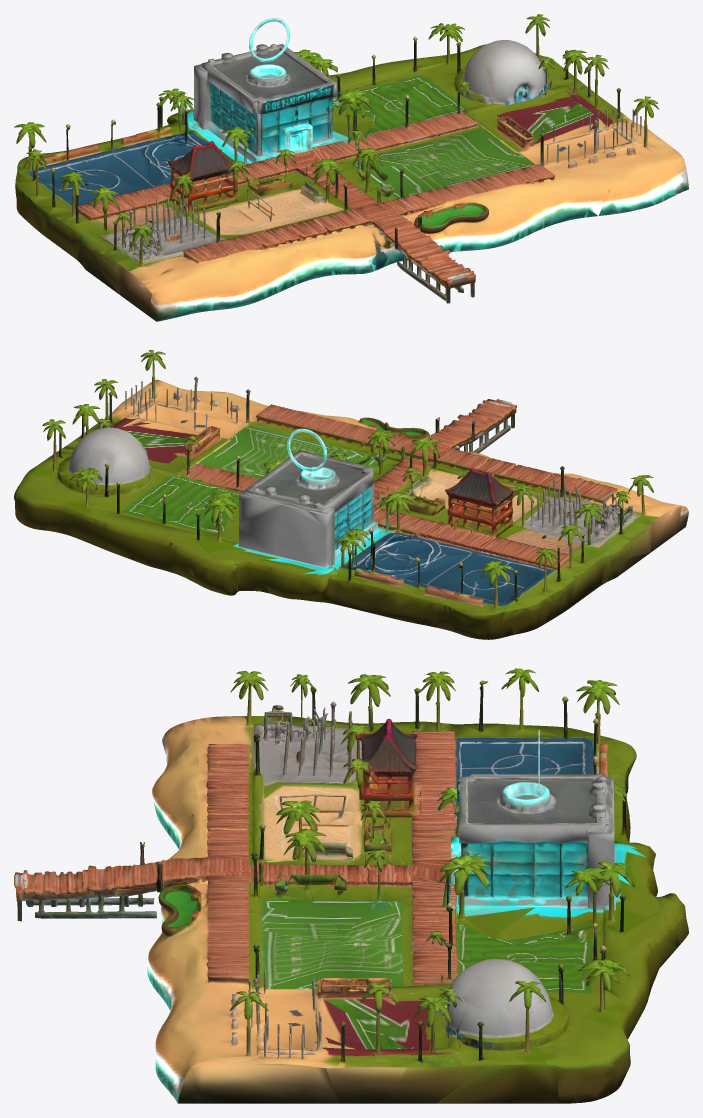
Rendered from story-hub.glb.
3 views of the same model, one above another, from view 1: azimuth 30°, elevation 25°; view 2: azimuth 150°, elevation 25°; view 3: azimuth 270°, elevation 25° (orthographic). The views are drawn at different scales.
Parts seen in each view (by area): view 1: Mesh_0; view 2: Mesh_0; view 3: Mesh_0.
Boxes of the visible parts, box(x1,y1,x2,y2) form: Mesh_0: box(14, 14, 688, 321); Mesh_0: box(14, 350, 688, 639); Mesh_0: box(14, 668, 688, 1103).
Size of the model in its own units: 1.9 by 0.4764 by 1.56.
1 material, 1 textured.
